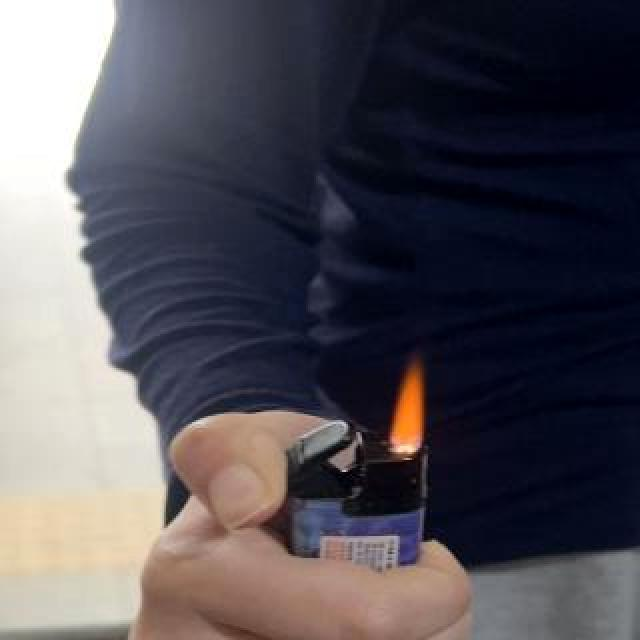fire: (380, 359, 430, 445)
